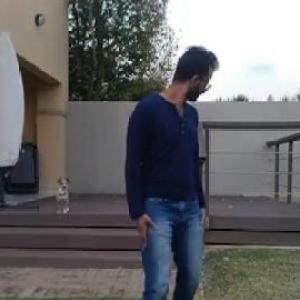follow: (122, 28, 241, 299)
